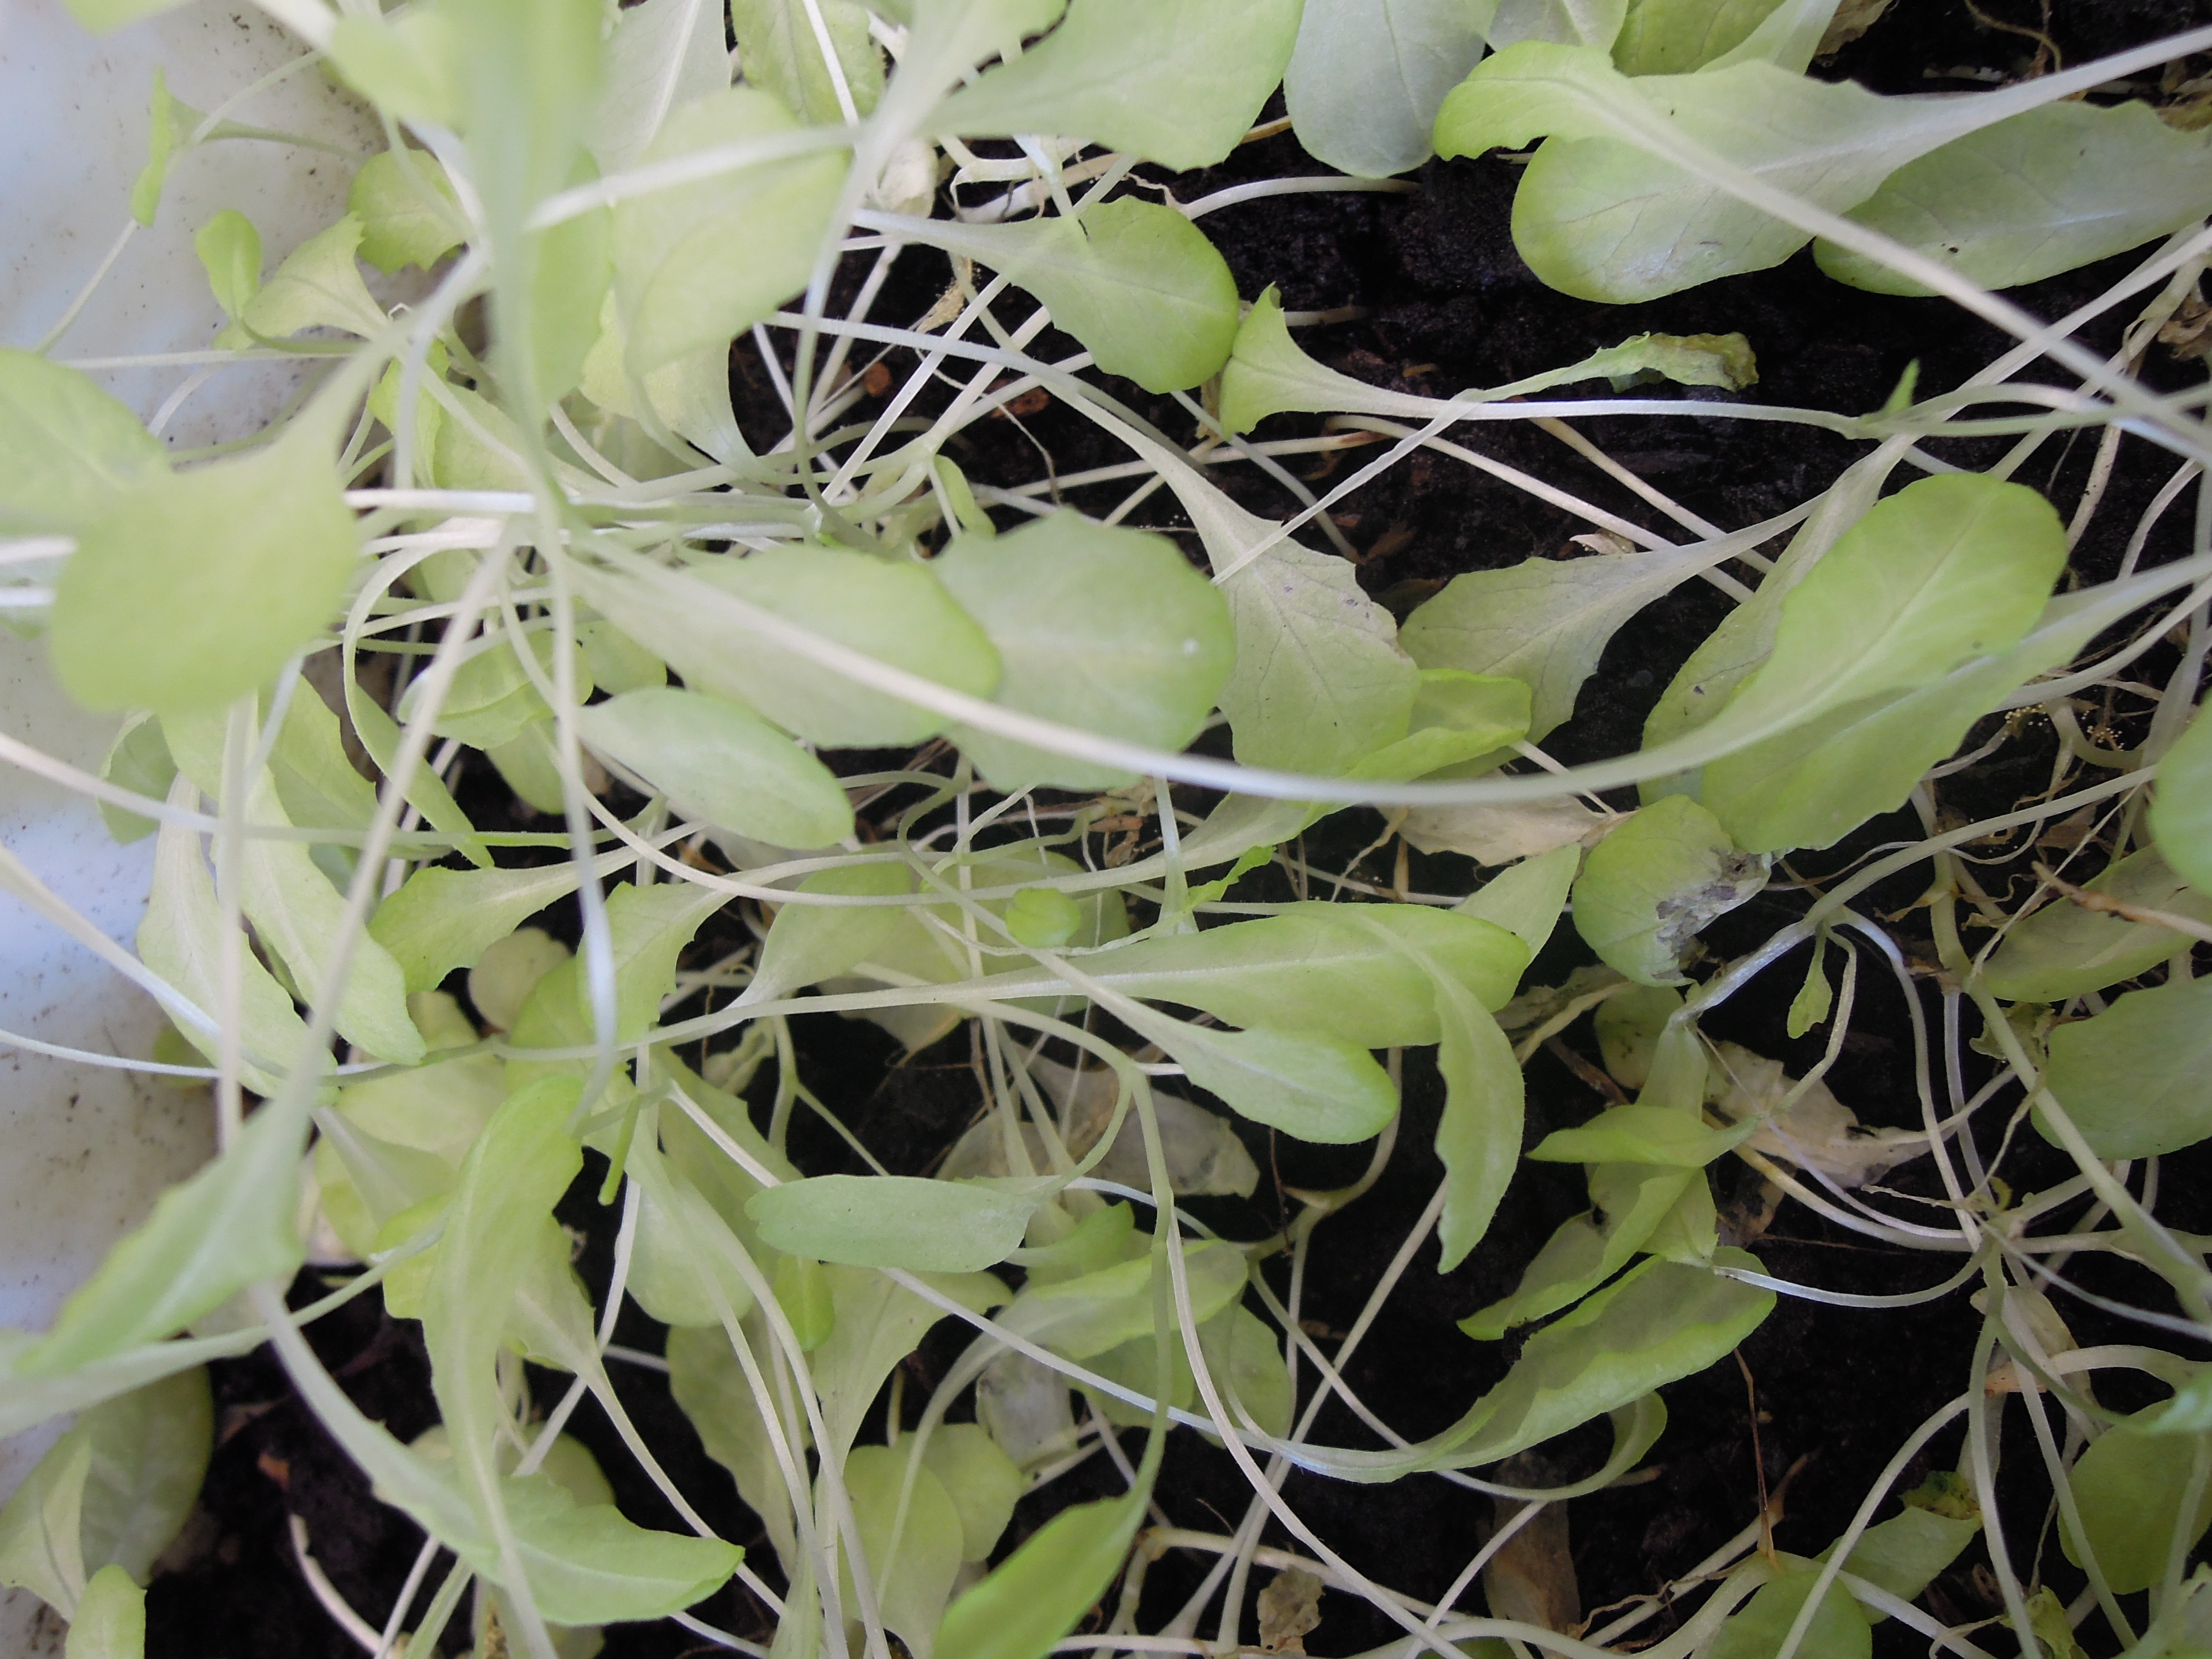weeek6: (357, 7, 2067, 1638)
